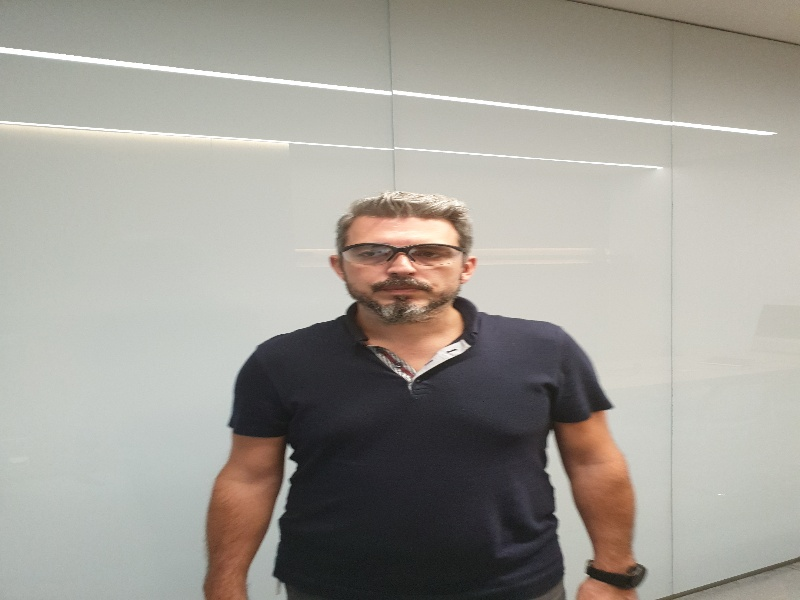Gozluk: (342, 243, 463, 264)
